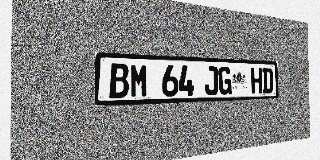4: (179, 65, 194, 96)
6: (162, 65, 178, 97)
B: (109, 63, 129, 98)
D: (262, 68, 273, 93)
G: (218, 66, 231, 95)
H: (251, 67, 262, 94)
J: (204, 66, 218, 95)
M: (130, 64, 148, 98)
